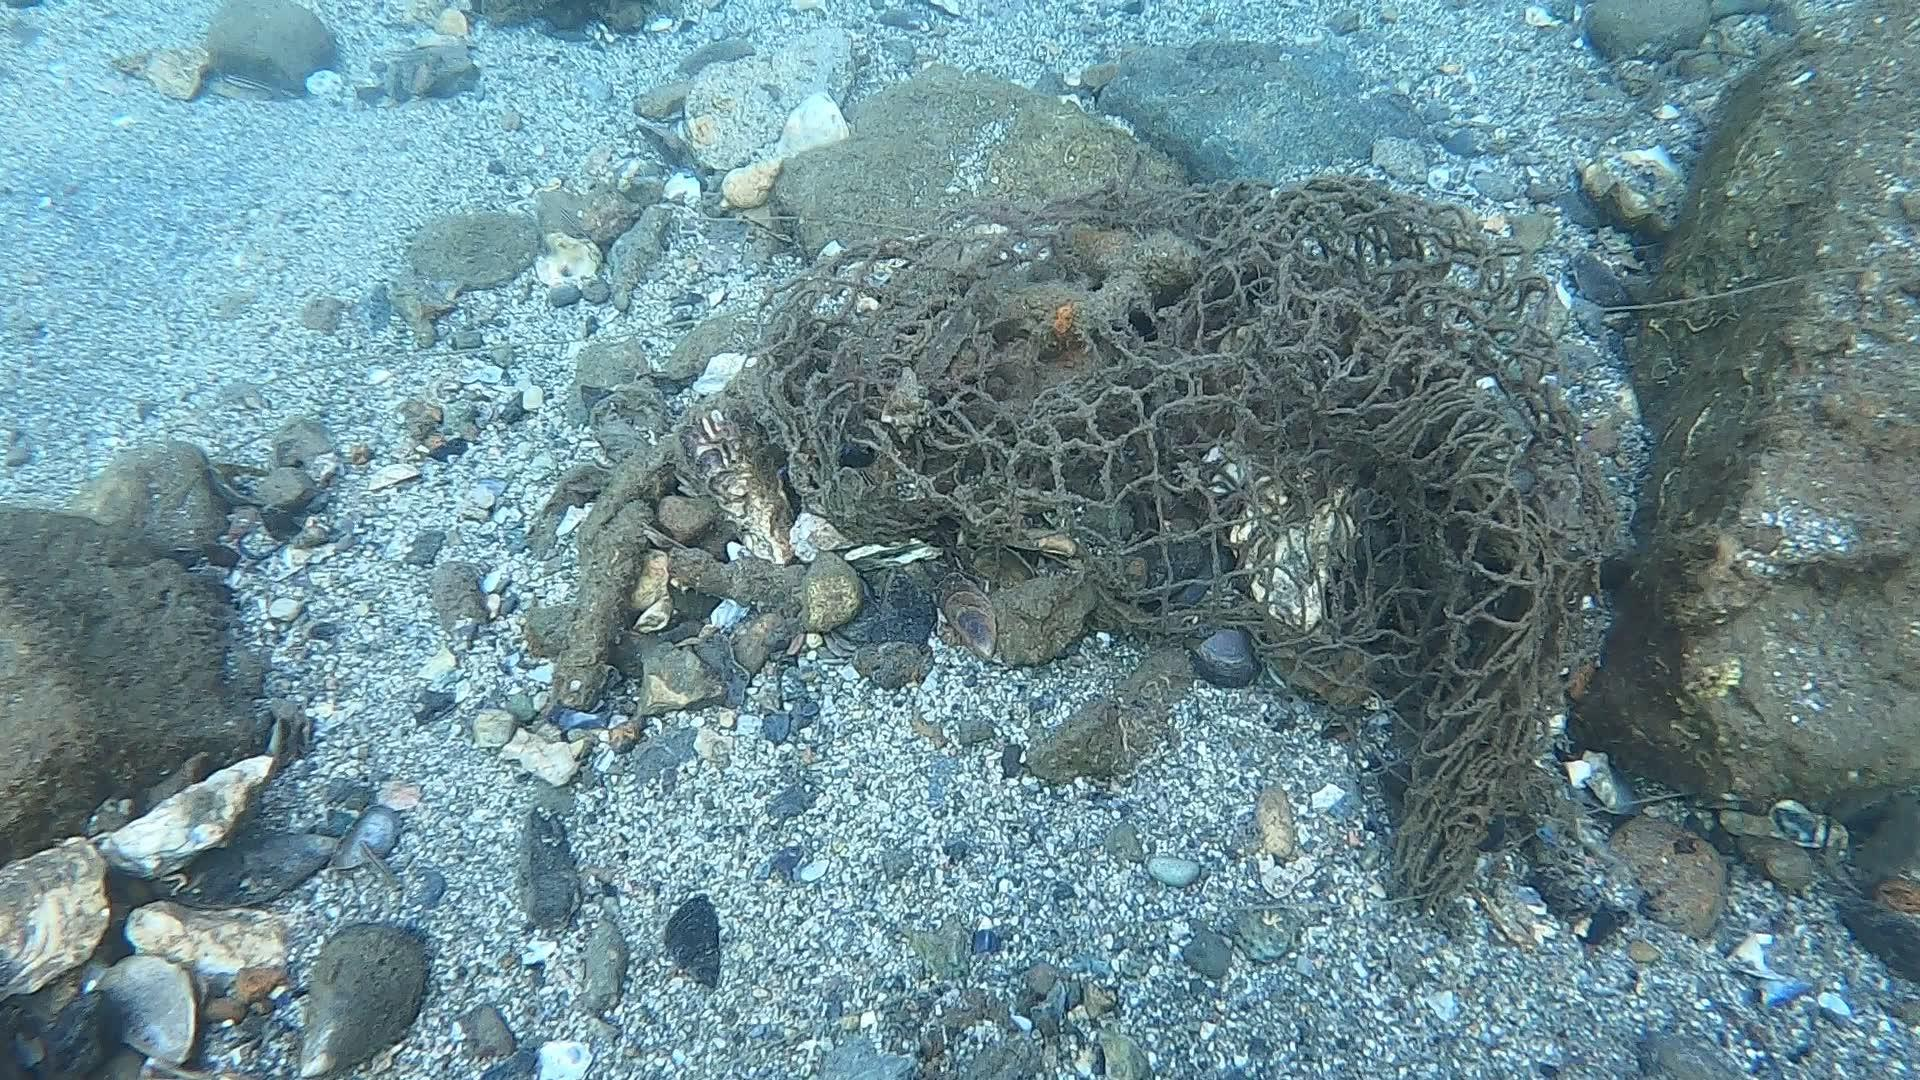fish net: (738, 177, 1615, 760)
